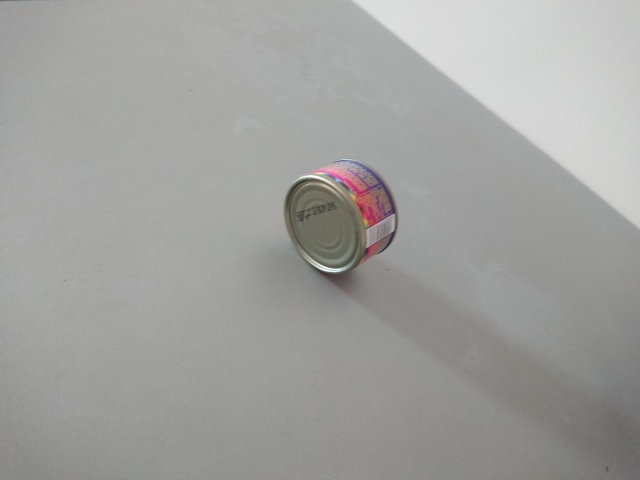Giana Tuna Salad Mexico 185g: (281, 157, 402, 279)
